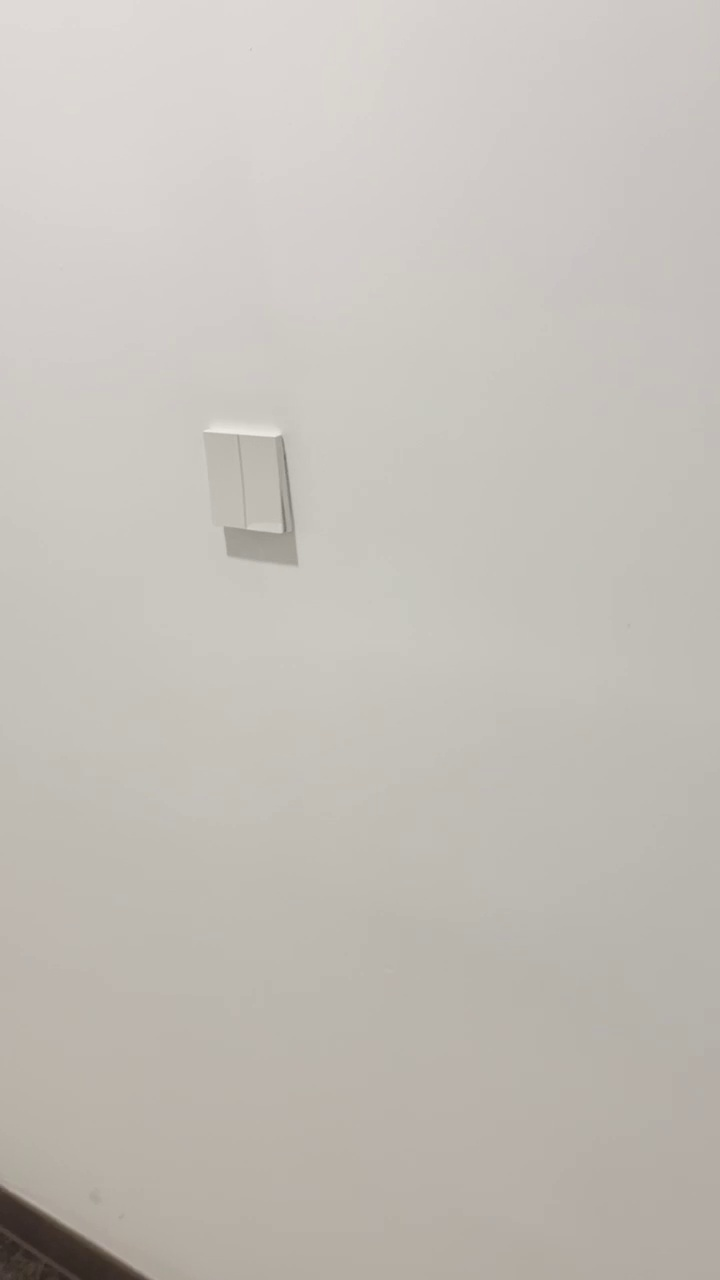button: (200, 419, 300, 545)
